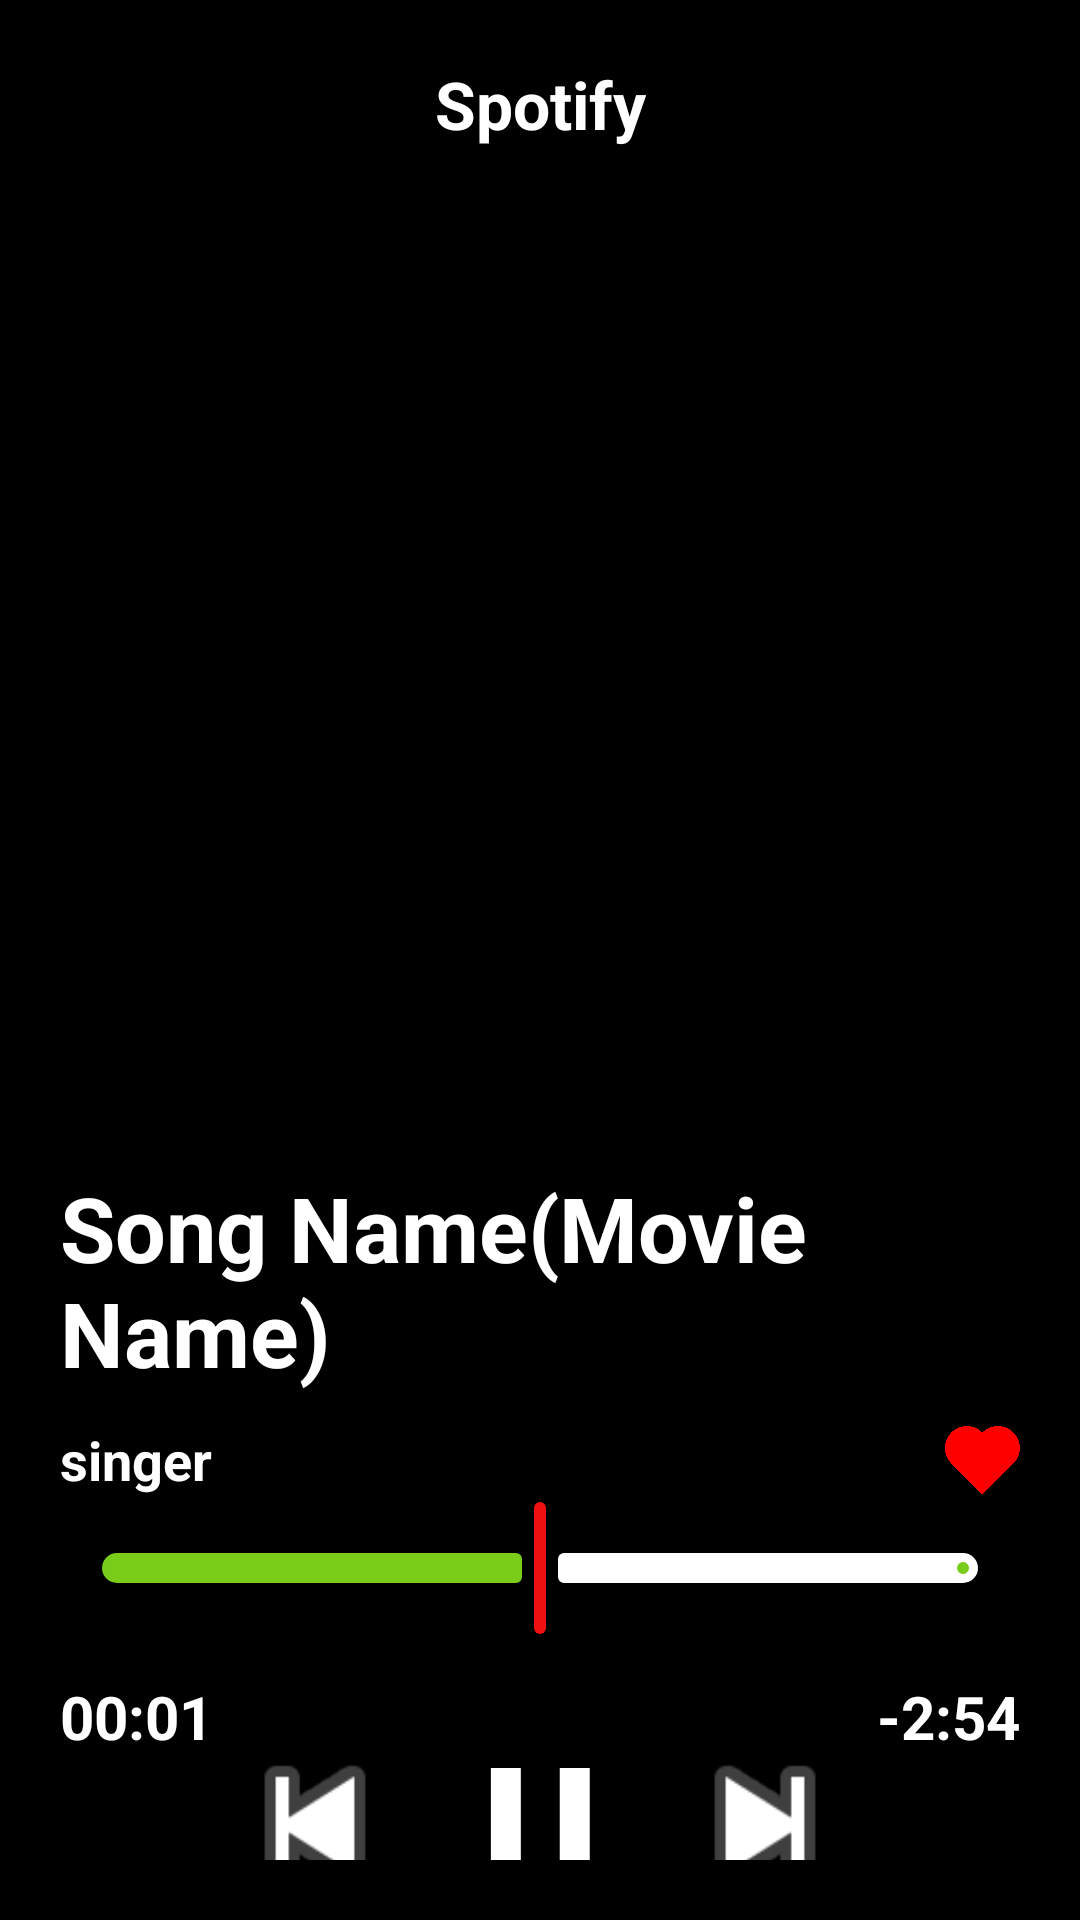

Locate icon controls on the screen. Image size 1080x1920, boxes as bbox=[x1, y1, x2, y2].
heart: bbox=[945, 1426, 1020, 1495]
next: bbox=[714, 1766, 816, 1860]
previous: bbox=[264, 1766, 366, 1860]
